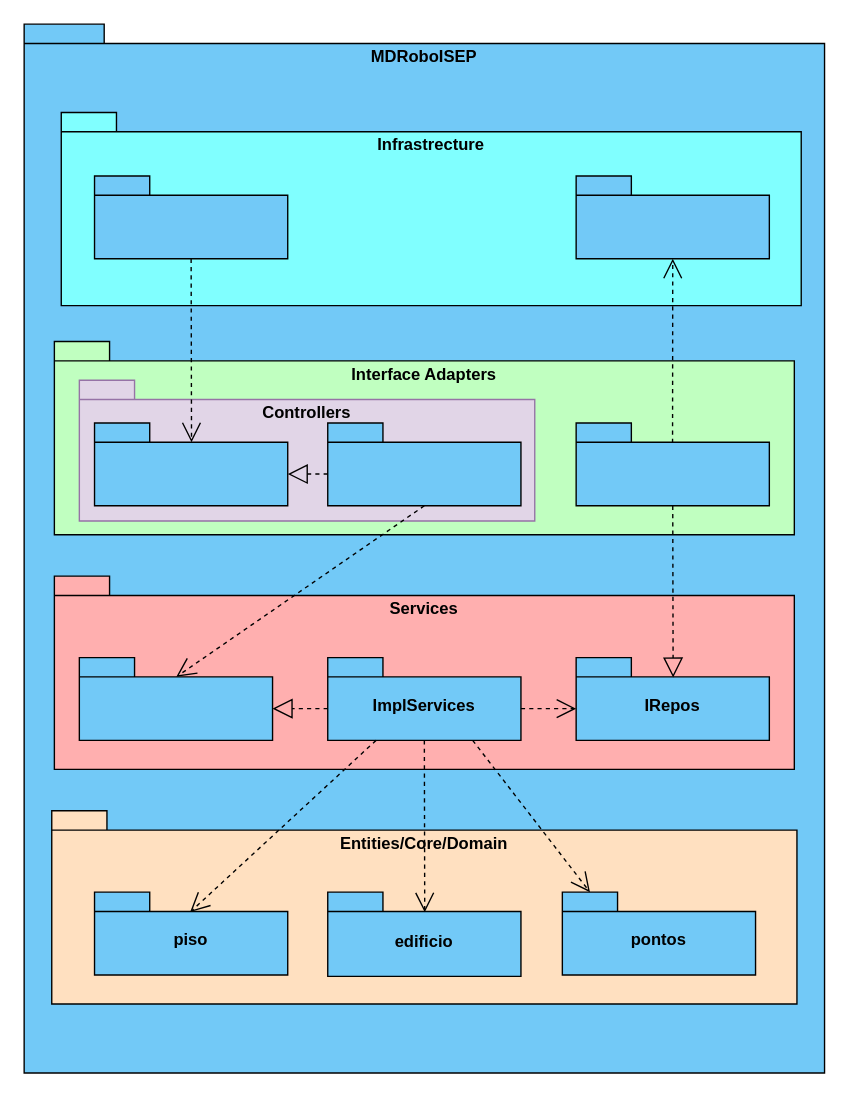
The diagram is 849 pixels wide and 1097 high, and some of its shapes have lost their labels. Each missing label, with the centre of its shape:
"IControllers" goes at [190,464].
"ImplControllers" goes at [423,464].
"IServices" goes at [175,698].
"Persistence" goes at [672,217].
"Repos" goes at [672,464].
"Routes" goes at [190,217].
